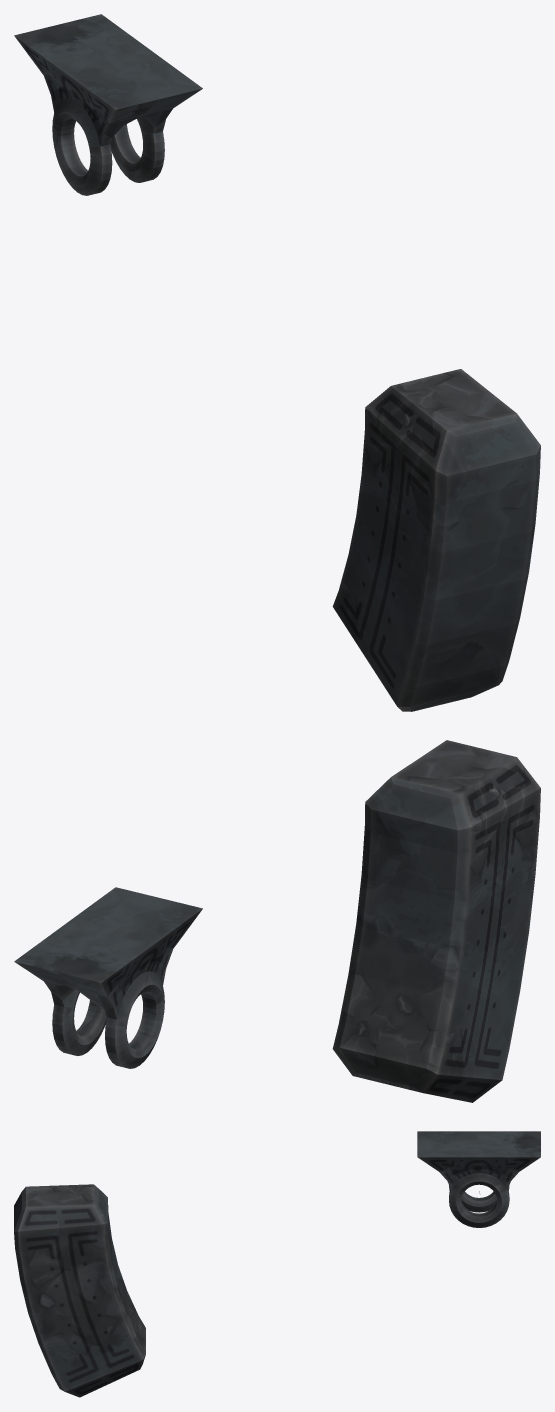
File: hammer.fbx
The picture shows the model from 3 angles, top to bottom: view 1: azimuth 30°, elevation 25°; view 2: azimuth 150°, elevation 25°; view 3: azimuth 270°, elevation 25°; orthographic projection. The views are drawn at different scales.
Visible parts, largest first — view 1: hammerHead, hammerHinge; view 2: hammerHead, hammerHinge; view 3: hammerHead, hammerHinge.
Boxes of the visible parts, x1,y1,x2,y2 form: hammerHead: [332, 369, 540, 711]; hammerHinge: [14, 14, 202, 195]; hammerHead: [332, 740, 540, 1102]; hammerHinge: [14, 887, 202, 1068]; hammerHead: [14, 1184, 145, 1397]; hammerHinge: [417, 1131, 540, 1227].
Size of the model in its own units: 989 by 3596 by 7072.
